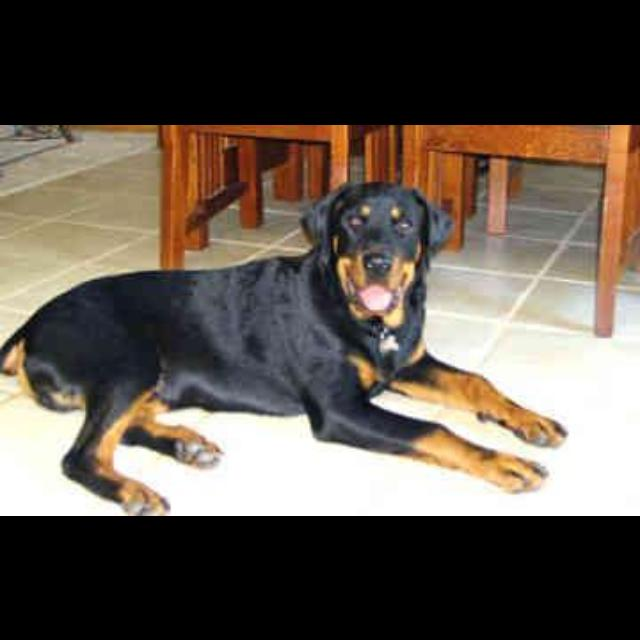rottweiler: (1, 178, 569, 514)
